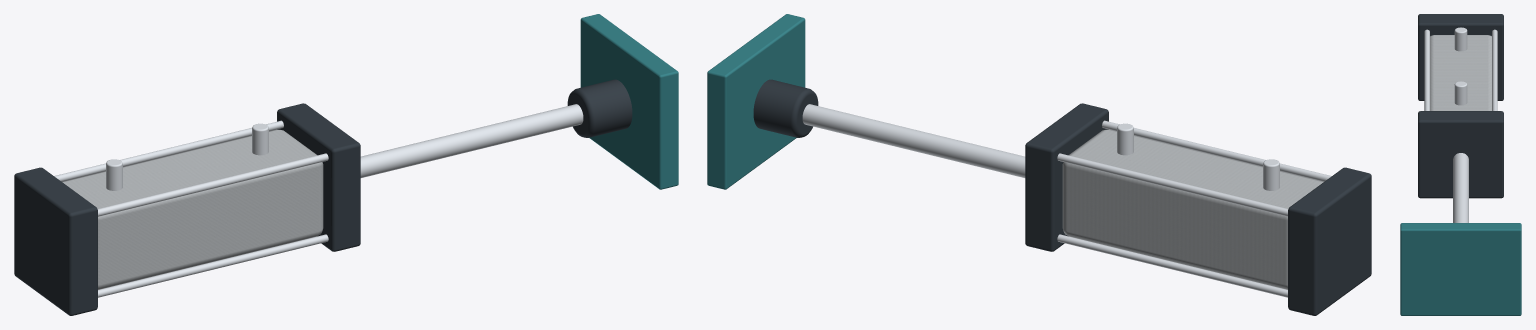
The model's file is CellPress.gltf.
3 views of the same model, side by side, from view 1: azimuth 30°, elevation 25°; view 2: azimuth 150°, elevation 25°; view 3: azimuth 270°, elevation 25° (orthographic). The views are drawn at different scales.
Visible parts, largest first — view 1: Pneumatic barrel, Cylinder end plate (×2), Process pad, Tie rod (×3), Chrome piston rod, Tool coupling, Pneumatic fitting (×2); view 2: Pneumatic barrel, Cylinder end plate (×2), Process pad, Tie rod (×3), Chrome piston rod, Tool coupling, Pneumatic fitting (×2); view 3: Process pad, Cylinder end plate (×2), Pneumatic barrel, Chrome piston rod, Tie rod (×2), Pneumatic fitting (×2).
Boxes of the visible parts, x1,y1,x2,y2 form: Pneumatic barrel: (62, 129, 323, 289); Cylinder end plate (×2): (14, 103, 360, 315); Process pad: (580, 14, 678, 189); Tie rod (×3): (54, 120, 328, 297); Chrome piston rod: (360, 104, 583, 177); Tool coupling: (567, 79, 632, 137); Pneumatic fitting (×2): (106, 123, 268, 190); Pneumatic barrel: (1062, 129, 1323, 289); Cylinder end plate (×2): (1025, 103, 1371, 315); Process pad: (707, 14, 805, 189); Tie rod (×3): (1057, 120, 1331, 297); Chrome piston rod: (802, 104, 1025, 177); Tool coupling: (753, 79, 818, 137); Pneumatic fitting (×2): (1117, 123, 1279, 190); Process pad: (1400, 223, 1521, 315); Cylinder end plate (×2): (1418, 14, 1503, 198); Pneumatic barrel: (1430, 35, 1491, 110); Chrome piston rod: (1453, 153, 1468, 222); Tie rod (×2): (1424, 29, 1497, 110); Pneumatic fitting (×2): (1454, 27, 1467, 105).
Size of the model in its own units: 0.819 by 0.1605 by 0.19.
4 materials, 1 textured.
